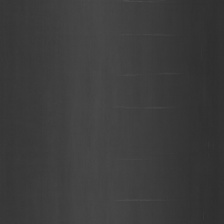waist_folding: (120, 9, 196, 224)
